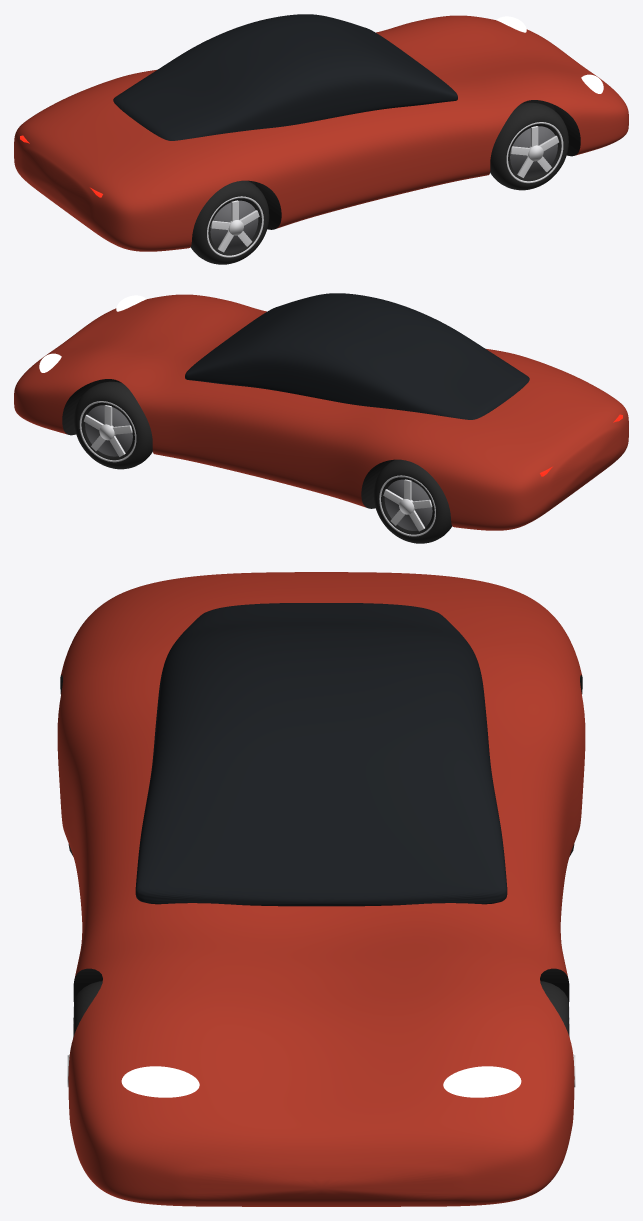
The model's file is coupe.glb.
The picture shows the model from 3 angles, top to bottom: view 1: azimuth 30°, elevation 25°; view 2: azimuth 150°, elevation 25°; view 3: azimuth 270°, elevation 25°; orthographic projection. The views are drawn at different scales.
Visible parts, largest first — view 1: Body, Canopy, Torus, Torus.004, Cylinder.004, Cylinder, Torus.001, Torus.005; view 2: Body, Canopy, Torus.002, Torus.006, Cylinder.006, Cylinder.002, Torus.003, Torus.007; view 3: Body, Canopy, Headlight, Headlight.001.
Boxes of the visible parts, <box> form: Body: <box>14,15,628,251</box>; Canopy: <box>113,14,457,140</box>; Torus: <box>490,102,568,190</box>; Torus.004: <box>190,180,269,264</box>; Cylinder.004: <box>210,200,258,251</box>; Cylinder: <box>510,126,557,177</box>; Torus.001: <box>506,122,563,183</box>; Torus.005: <box>207,196,263,257</box>; Body: <box>14,294,628,530</box>; Canopy: <box>185,293,529,419</box>; Torus.002: <box>74,381,152,469</box>; Torus.006: <box>373,459,452,543</box>; Cylinder.006: <box>384,479,432,530</box>; Cylinder.002: <box>85,405,132,456</box>; Torus.003: <box>79,401,136,462</box>; Torus.007: <box>379,475,435,536</box>; Body: <box>57,572,585,1206</box>; Canopy: <box>135,603,507,906</box>; Headlight: <box>443,1066,521,1097</box>; Headlight.001: <box>121,1066,199,1097</box>.
Bounding box in the file's own units: 4.63 × 1.27 × 1.97.
